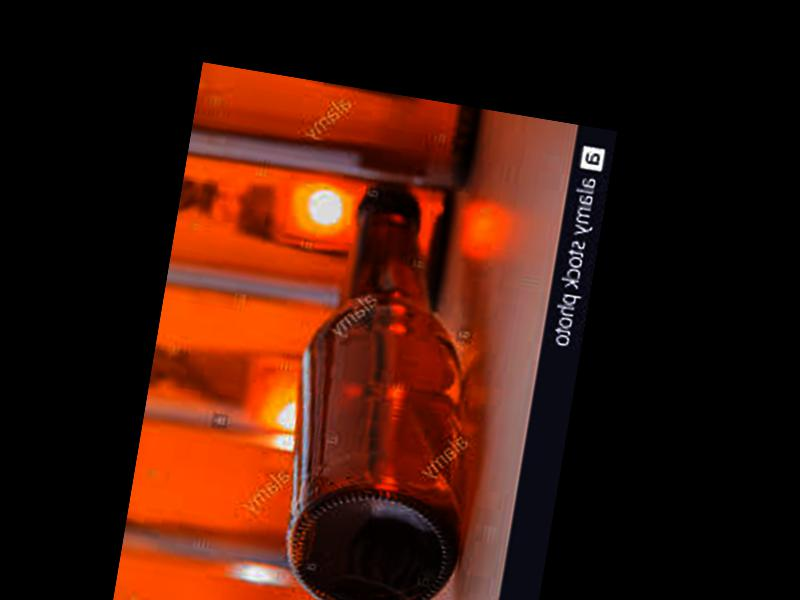Beer: (259, 181, 524, 600)
